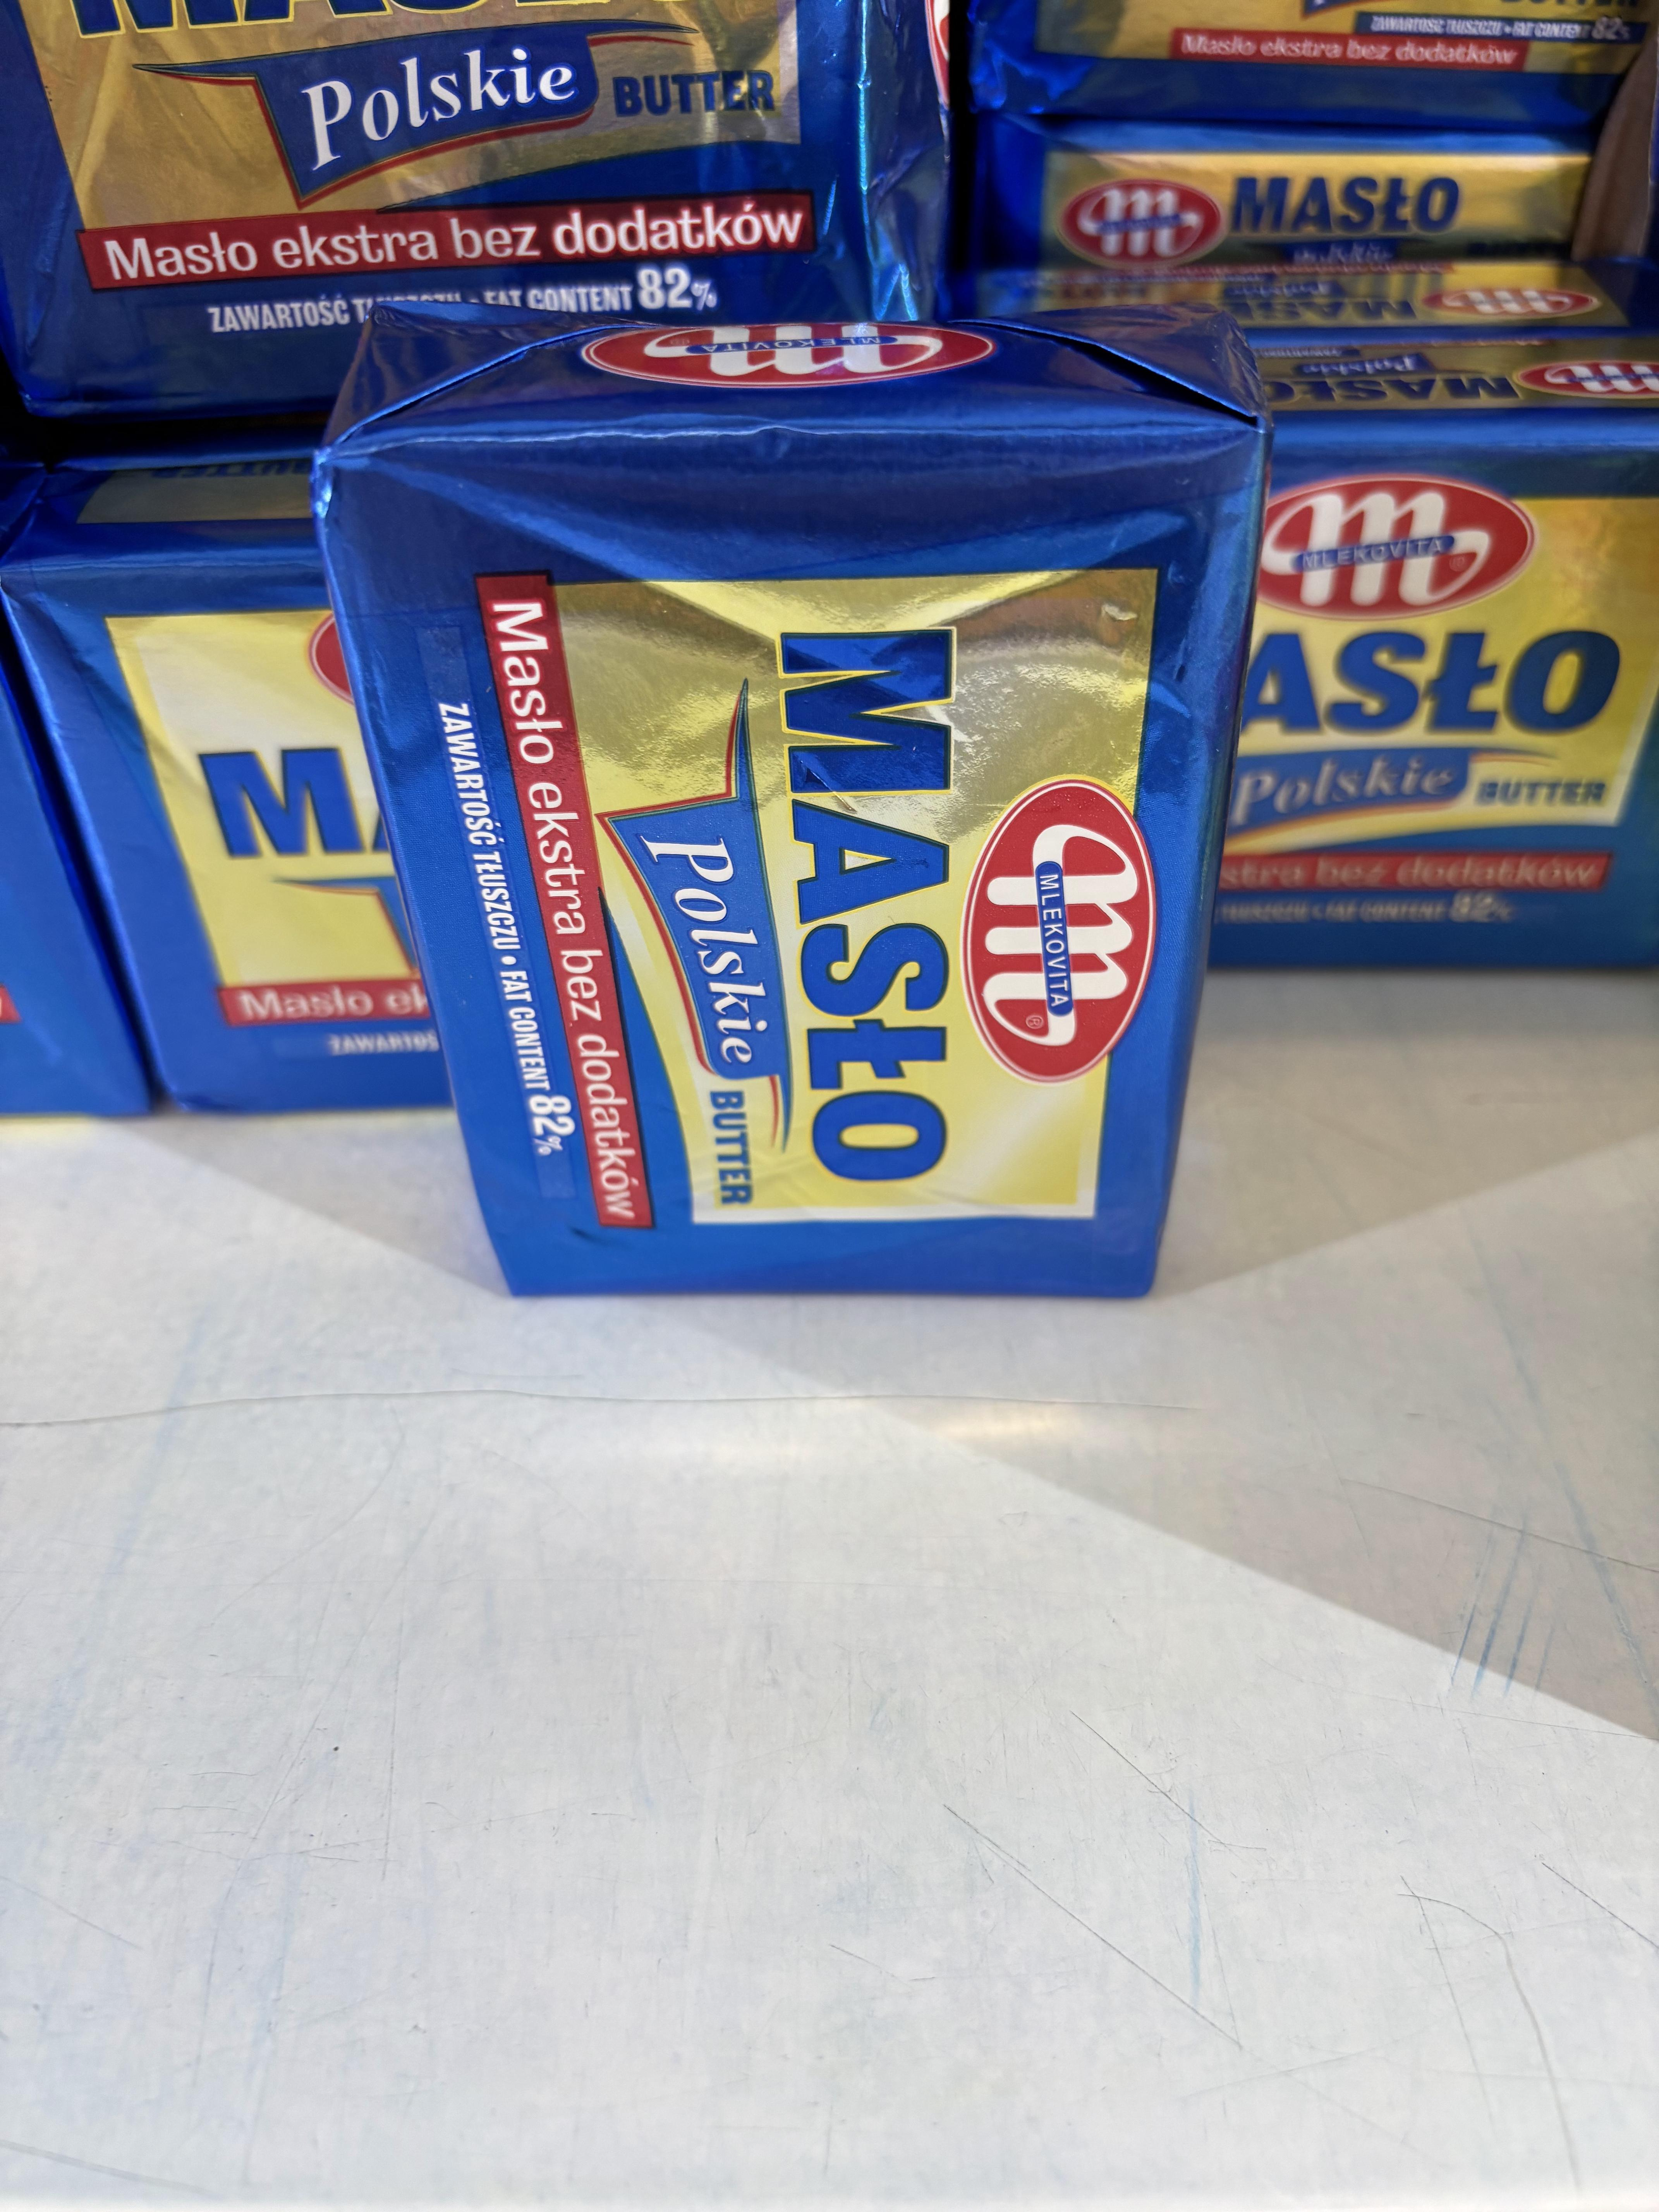Butter: (303, 301, 1253, 1393)
